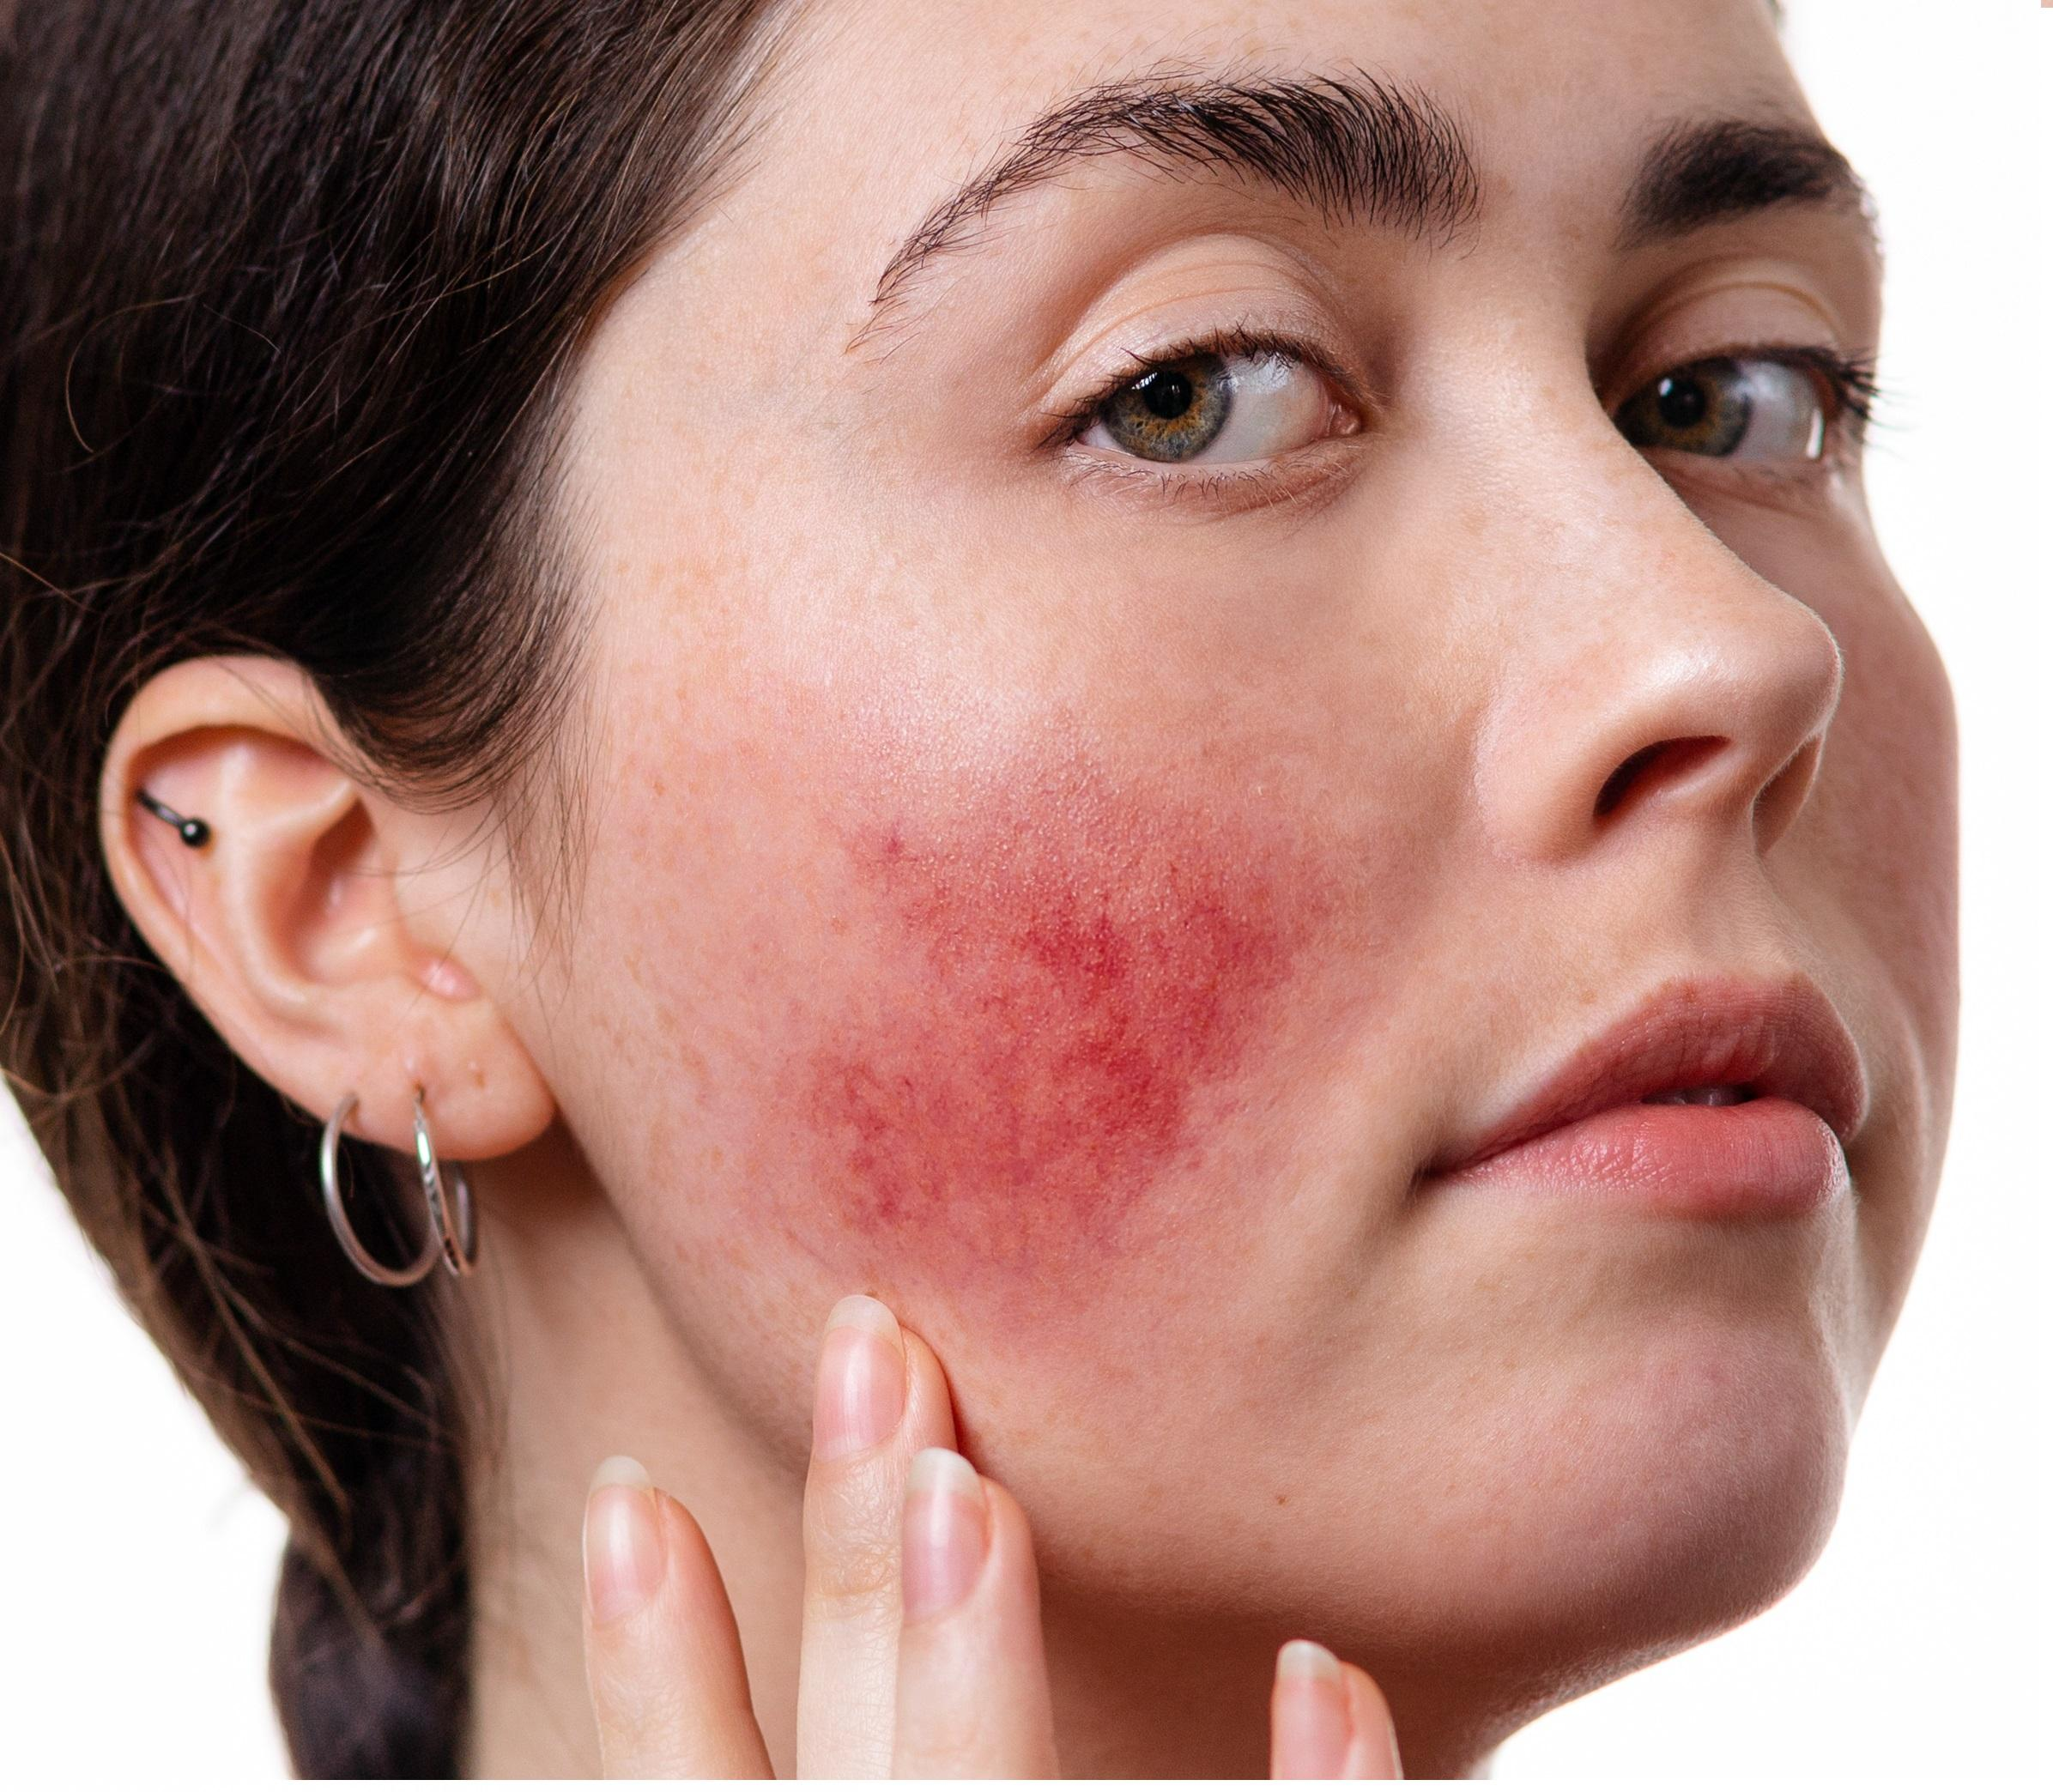Skin-Redness: (733, 792, 1362, 1249), (827, 935, 1084, 1242)
